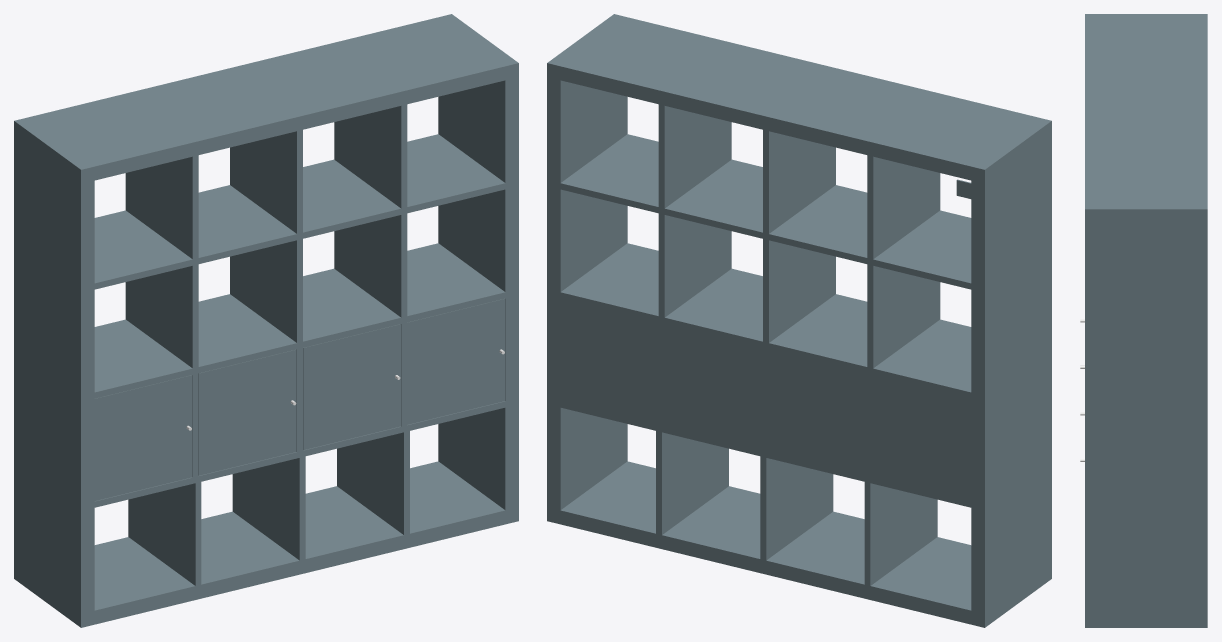
The model's file is KALLAX_Shelf_with_4_Accessories_glossy_Turquoise_Whole.obj.
3 views of the same model, side by side, from view 1: azimuth 30°, elevation 25°; view 2: azimuth 150°, elevation 25°; view 3: azimuth 270°, elevation 25° (orthographic). The views are drawn at different scales.
Parts seen in each view (by area): view 1: Box001, Box002, Rectangle009, Rectangle011, Rectangle004, Rectangle003, Rectangle006, Rectangle005; view 2: Box001, Box002, Rectangle009, Rectangle012, Rectangle004, Rectangle003, Rectangle006, Rectangle005; view 3: Box002, Box001.
Boxes of the visible parts, left/top/right/bottom form: Box001: left=14, top=14, right=518, bottom=627; Box002: left=14, top=77, right=518, bottom=613; Rectangle009: left=94, top=134, right=505, bottom=507; Rectangle011: left=94, top=298, right=504, bottom=500; Rectangle004: left=125, top=213, right=407, bottom=368; Rectangle003: left=125, top=104, right=407, bottom=259; Rectangle006: left=128, top=431, right=409, bottom=585; Rectangle005: left=192, top=322, right=407, bottom=477; Box001: left=547, top=14, right=1051, bottom=627; Box002: left=547, top=77, right=1051, bottom=613; Rectangle009: left=560, top=134, right=971, bottom=507; Rectangle012: left=560, top=298, right=971, bottom=501; Rectangle004: left=658, top=213, right=940, bottom=368; Rectangle003: left=658, top=104, right=940, bottom=259; Rectangle006: left=656, top=431, right=937, bottom=585; Rectangle005: left=658, top=322, right=873, bottom=477; Box002: left=1085, top=222, right=1207, bottom=615; Box001: left=1085, top=14, right=1207, bottom=627.
Bounding box in the file's own units: 1470 × 1470 × 405.
